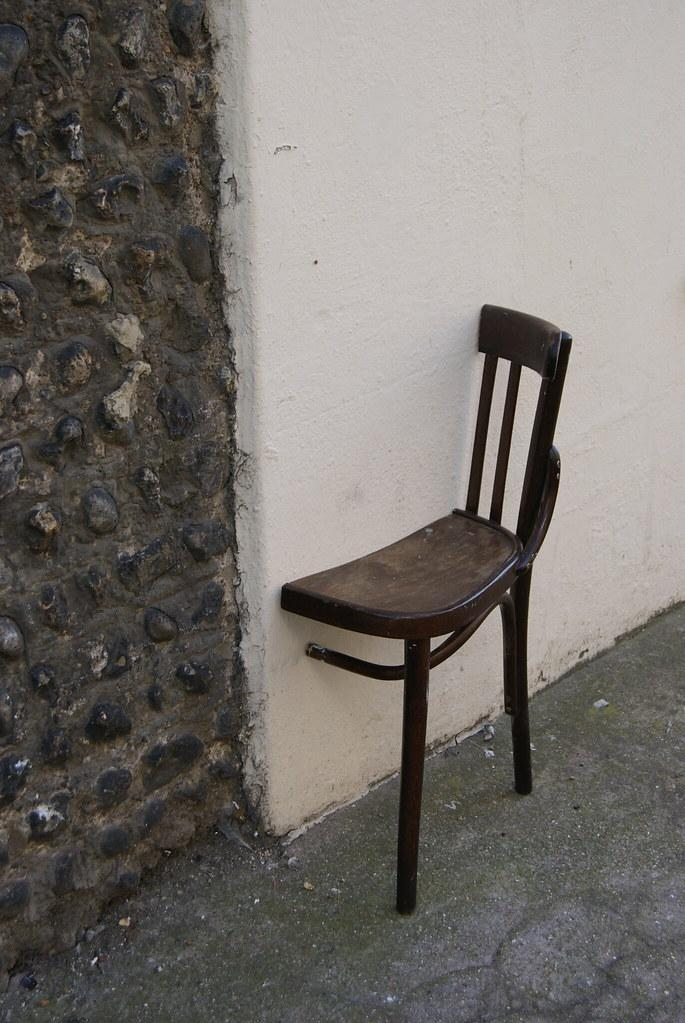chair: (280, 303, 574, 916)
